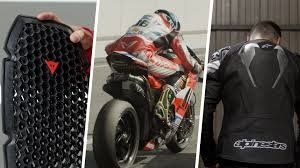motor: (104, 45, 192, 159)
